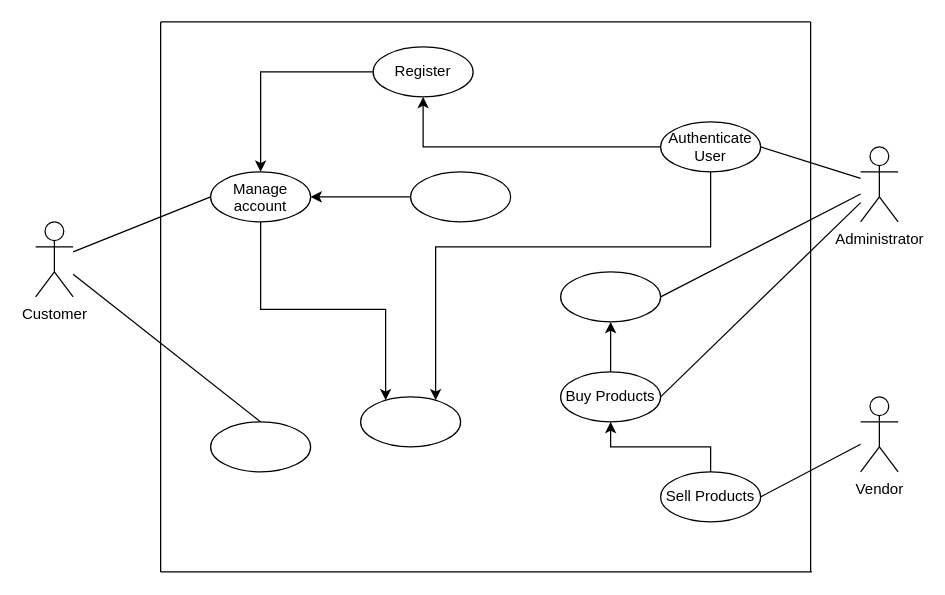
This 945x595 diagram has some shape labels left out. Here are the shapes that lost their labels. From the top down, the centre of each, then its label:
At (x=460, y=196): "Manage Profile".
At (x=610, y=296): "Update Website".
At (x=410, y=421): "Login".
At (x=260, y=446): "Browse Website".
